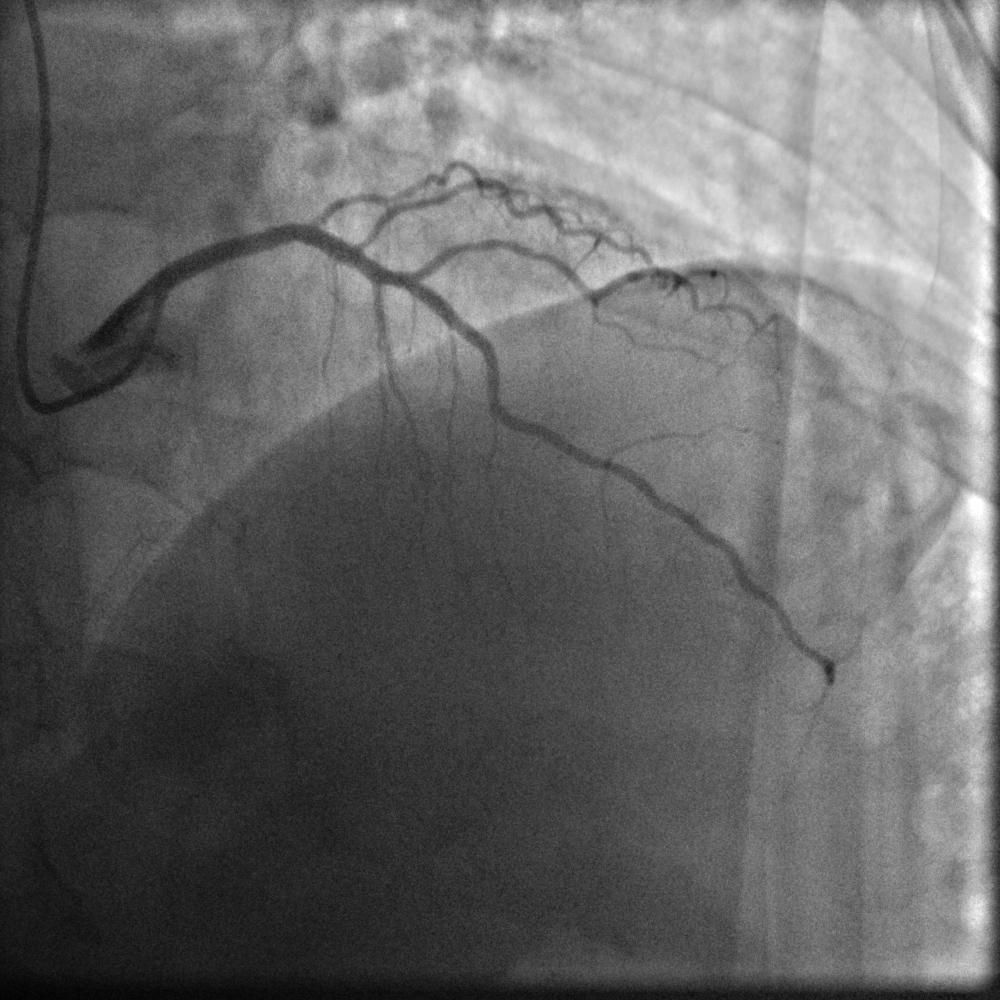Stenosis: (303, 198, 380, 256)
